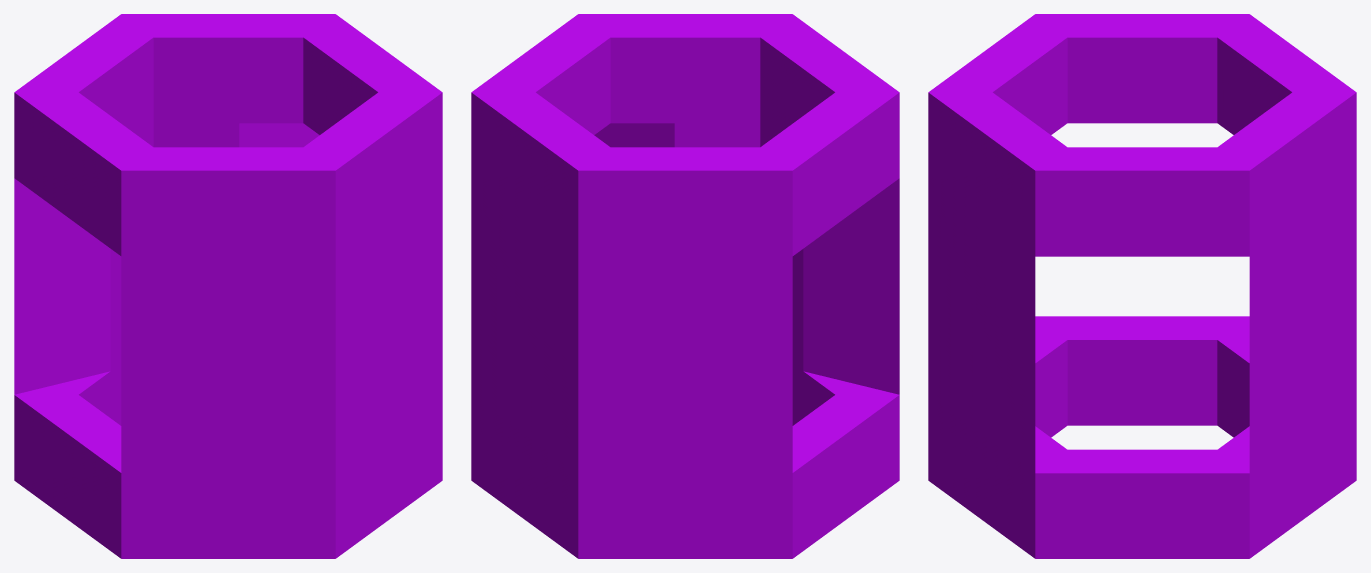
File: var_7.glb
3 views of the same model, side by side, from view 1: azimuth 30°, elevation 25°; view 2: azimuth 150°, elevation 25°; view 3: azimuth 270°, elevation 25° (orthographic).
Parts seen in each view (by area): view 1: Cylinder.004; view 2: Cylinder.004; view 3: Cylinder.004.
Part boxes in pixels (<box>): Cylinder.004: <box>14,14,442,558</box>; Cylinder.004: <box>471,14,899,558</box>; Cylinder.004: <box>928,14,1356,558</box>.
Bounding box in the file's own units: 1.73 × 2 × 2.
